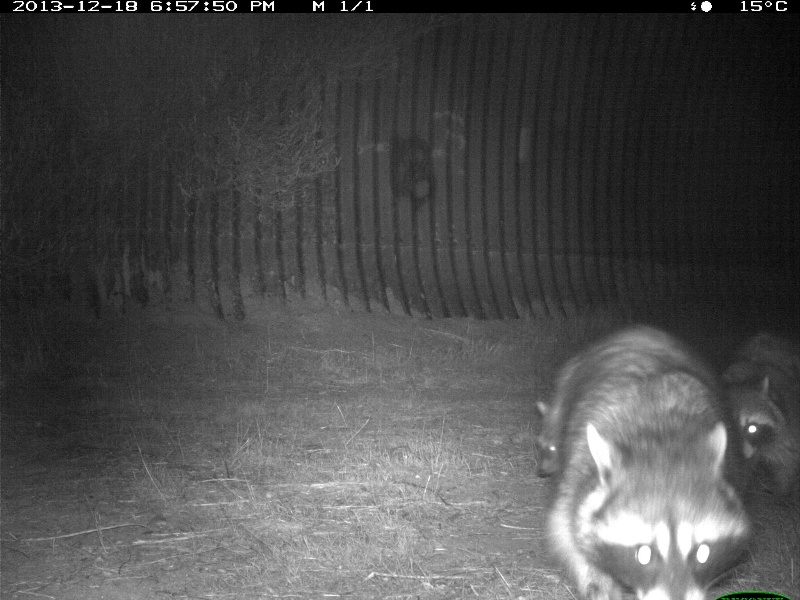raccoon: (536, 328, 755, 599), (717, 320, 797, 501), (536, 355, 591, 484)
